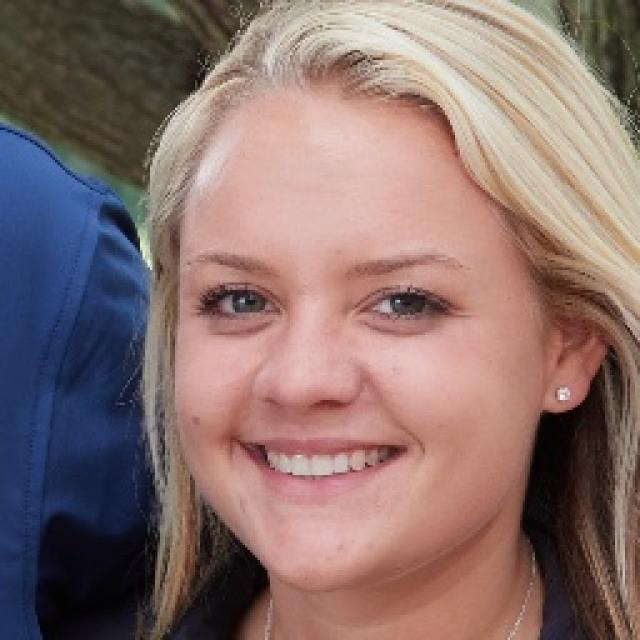earlobe: (540, 298, 608, 414)
